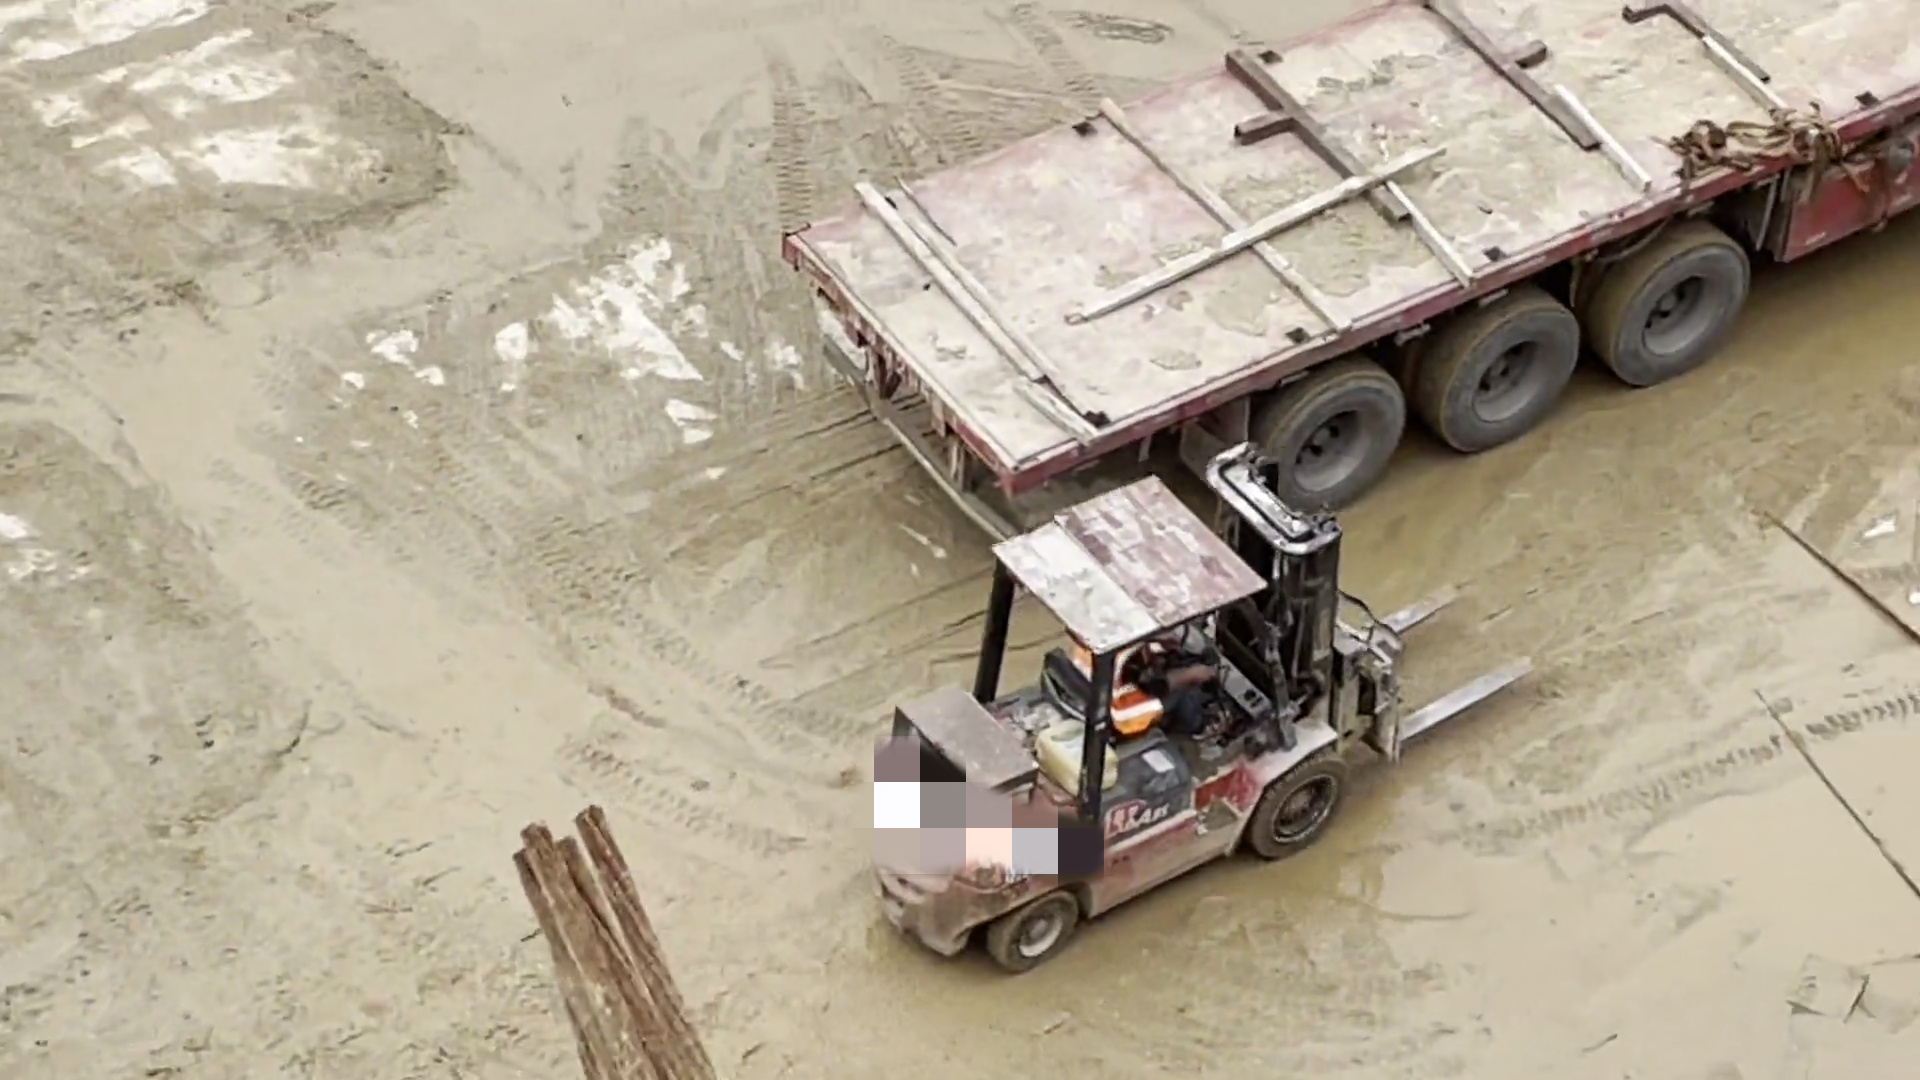person: (1081, 634, 1238, 754)
vest: (1073, 635, 1158, 741)
